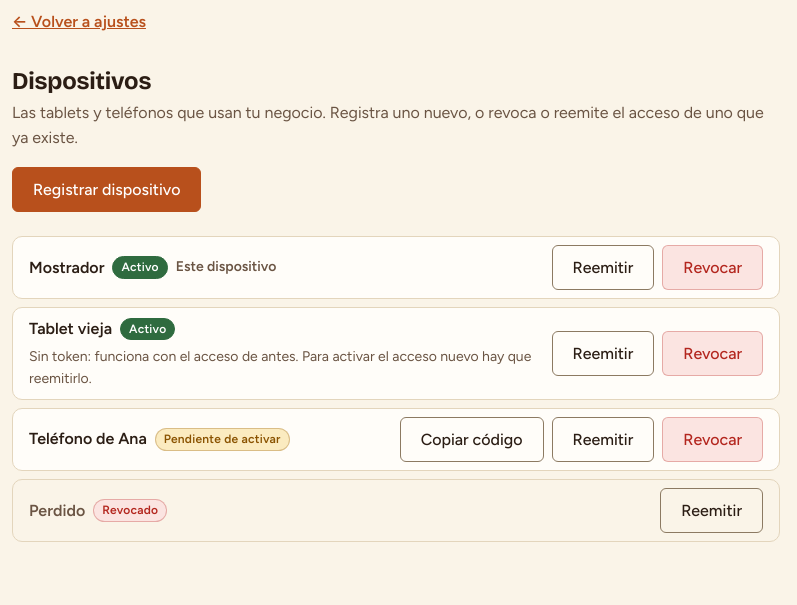
Scenario: DevicesView — copiar el código de un dispositivo pendiente › si falla, lo dice
Click the button "Copiar código": (472, 439) [400,416,544,462]
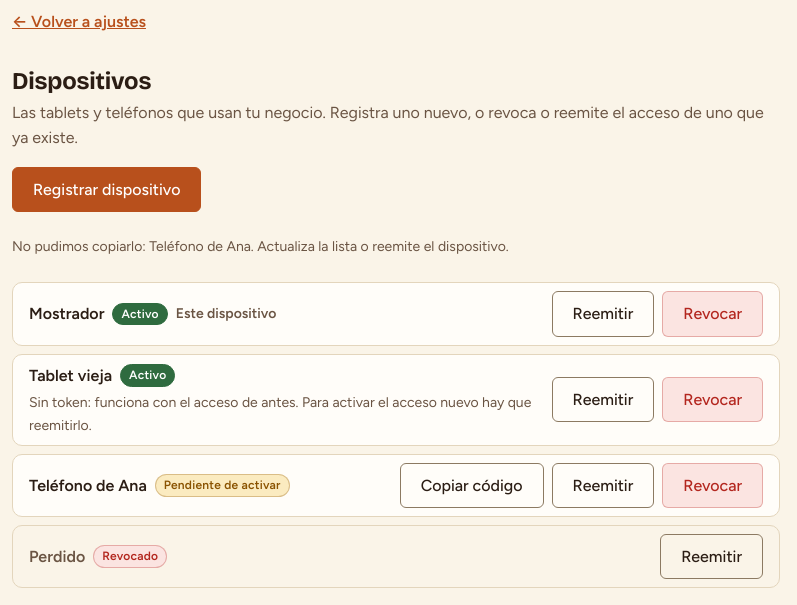
Expected: the message with class "devices-view__copy" shows "No pudimos copiarlo", [12,238,509,255]
